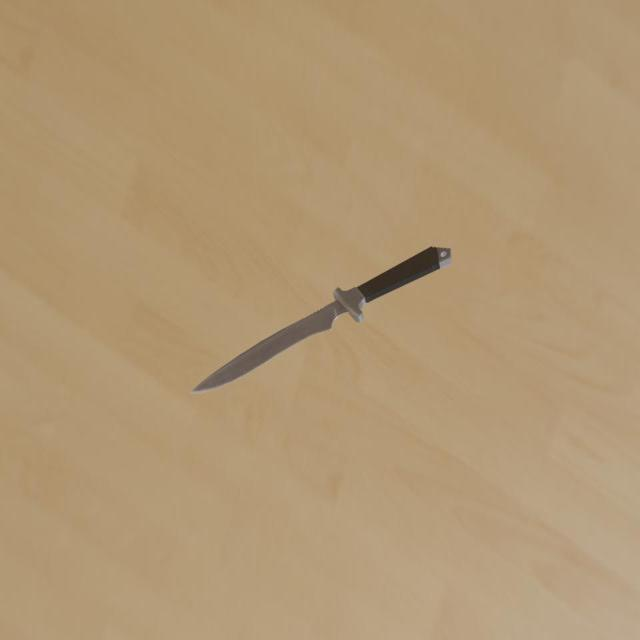knife: (357, 246, 451, 304)
